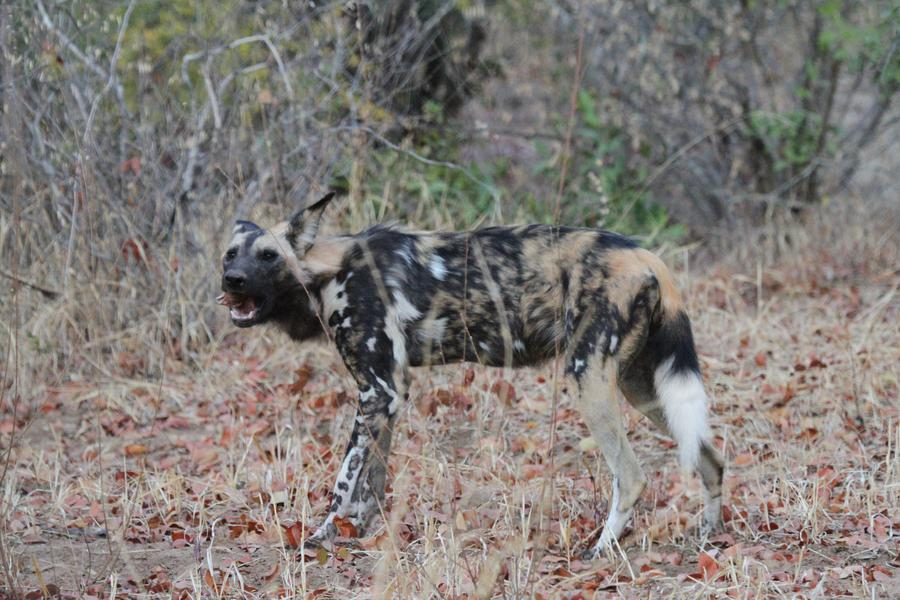wilddog: (217, 203, 654, 435)
